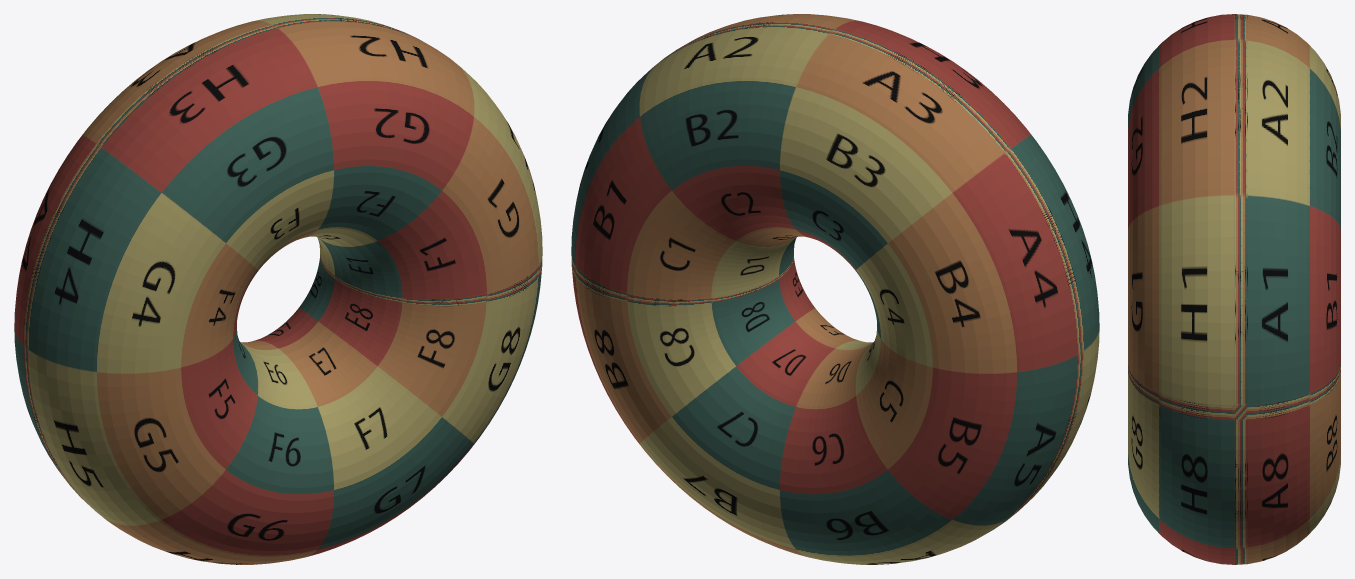
File: texture_torus_R2_r8.glb
3 views of the same model, side by side, from view 1: azimuth 30°, elevation 25°; view 2: azimuth 150°, elevation 25°; view 3: azimuth 270°, elevation 25° (orthographic). The views are drawn at different scales.
Visible parts, largest first — view 1: world; view 2: world; view 3: world.
Part boxes in pixels (x1,y1,x2,y2): world: (14, 14, 542, 564); world: (571, 14, 1099, 564); world: (1128, 14, 1340, 564).
Size of the model in its own units: 23.56 by 23.56 by 9.09.
Materials: 1 (1 with a texture image).
